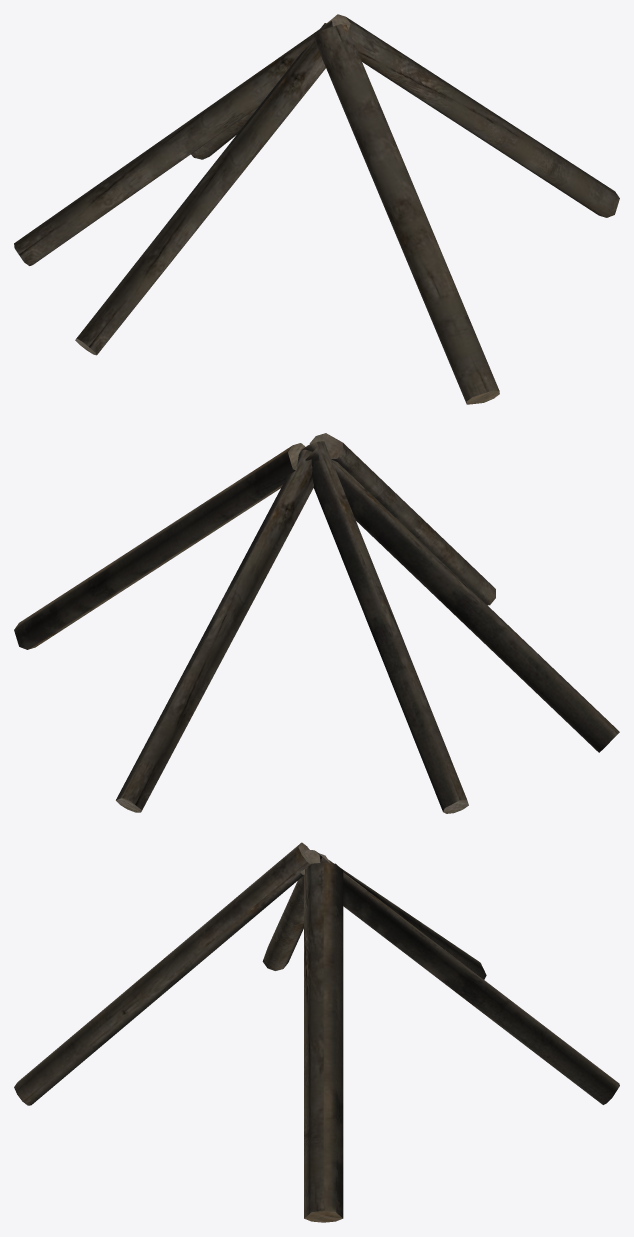
The model's file is fuel_wood.fbx.
3 renders of one model, top to bottom at view 1: azimuth 30°, elevation 25°; view 2: azimuth 150°, elevation 25°; view 3: azimuth 270°, elevation 25°, orthographic. The views are drawn at different scales.
Parts seen in each view (by area): view 1: Line001, Line002, Line003; view 2: Line001, Line002, Line003; view 3: Line001, Line002, Line003.
Part boxes in pixels (x1,y1,x2,y2): Line001: (191,14,619,404); Line002: (75,23,327,355); Line003: (14,19,340,265); Line001: (14,433,495,812); Line002: (305,448,619,752); Line003: (302,441,468,813); Line001: (14,842,619,1222); Line002: (262,853,330,970); Line003: (300,850,486,979).
Bounding box in the file's own units: 81.84 × 38.12 × 81.35.
